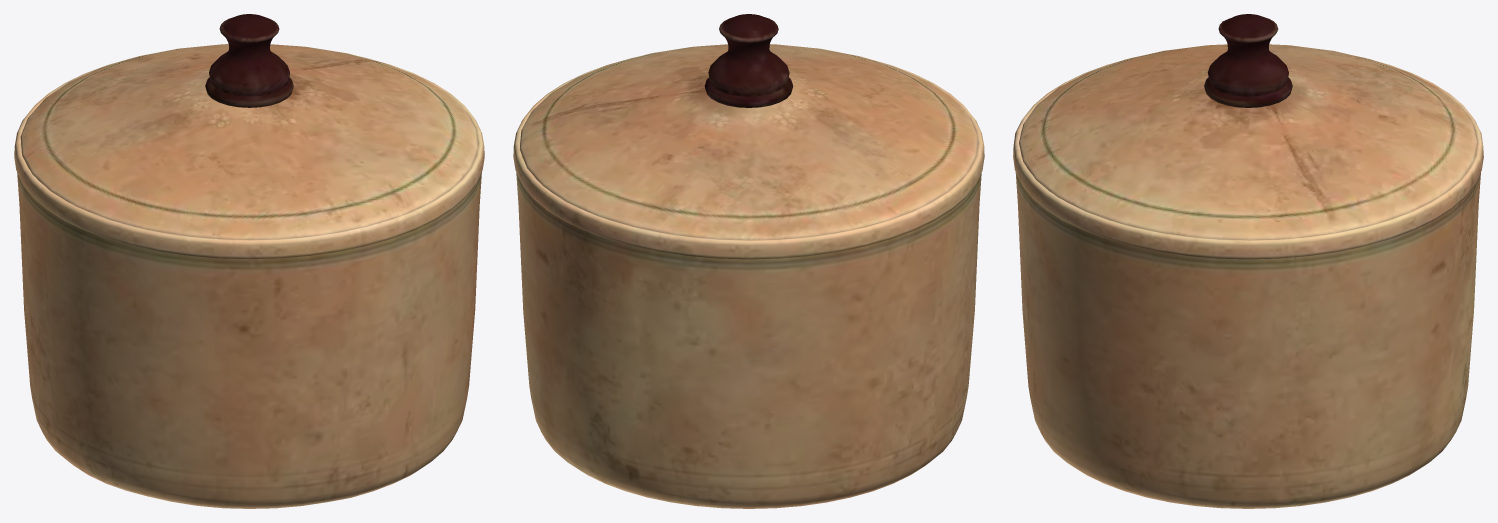
The model's file is brass_pot_01.glb.
3 views of the same model, side by side, from view 1: azimuth 30°, elevation 25°; view 2: azimuth 150°, elevation 25°; view 3: azimuth 270°, elevation 25° (orthographic).
Parts seen in each view (by area): view 1: brass_pot_01; view 2: brass_pot_01; view 3: brass_pot_01.
Part boxes in pixels (left/top/right/bottom): brass_pot_01: left=14, top=14, right=484, bottom=508; brass_pot_01: left=513, top=14, right=984, bottom=508; brass_pot_01: left=1013, top=14, right=1483, bottom=508.
Size of the model in its own units: 0.3019 by 0.291 by 0.3017.
Materials: 1 (1 with a texture image).
